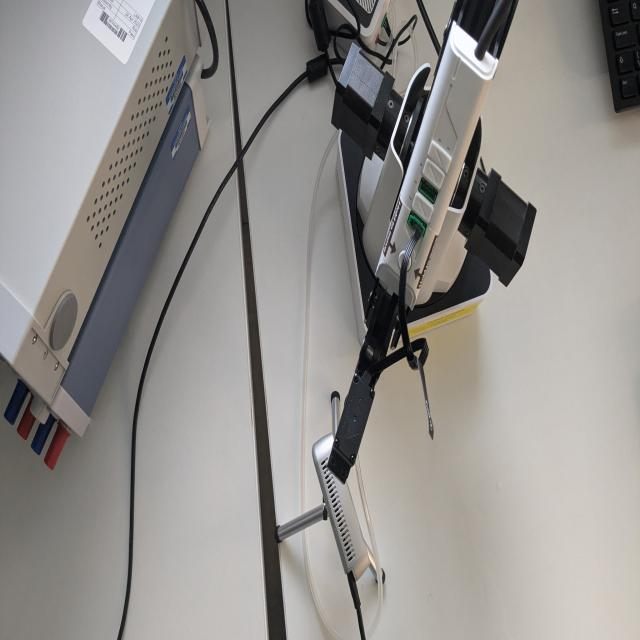Robot-end-effector-HF8z: (324, 368, 380, 488)
